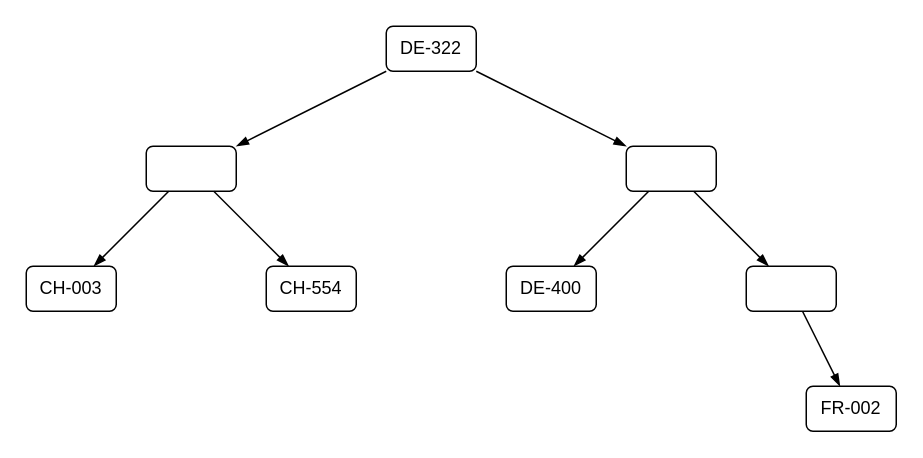
Some shapes in this 923 by 458 pixel diagram are drawn without their labels. Here are the shapes that lost their labels. From the top down, the centre of each, then its label:
[190,168]: CH-023
[670,168]: DE-588
[790,288]: DE-700
